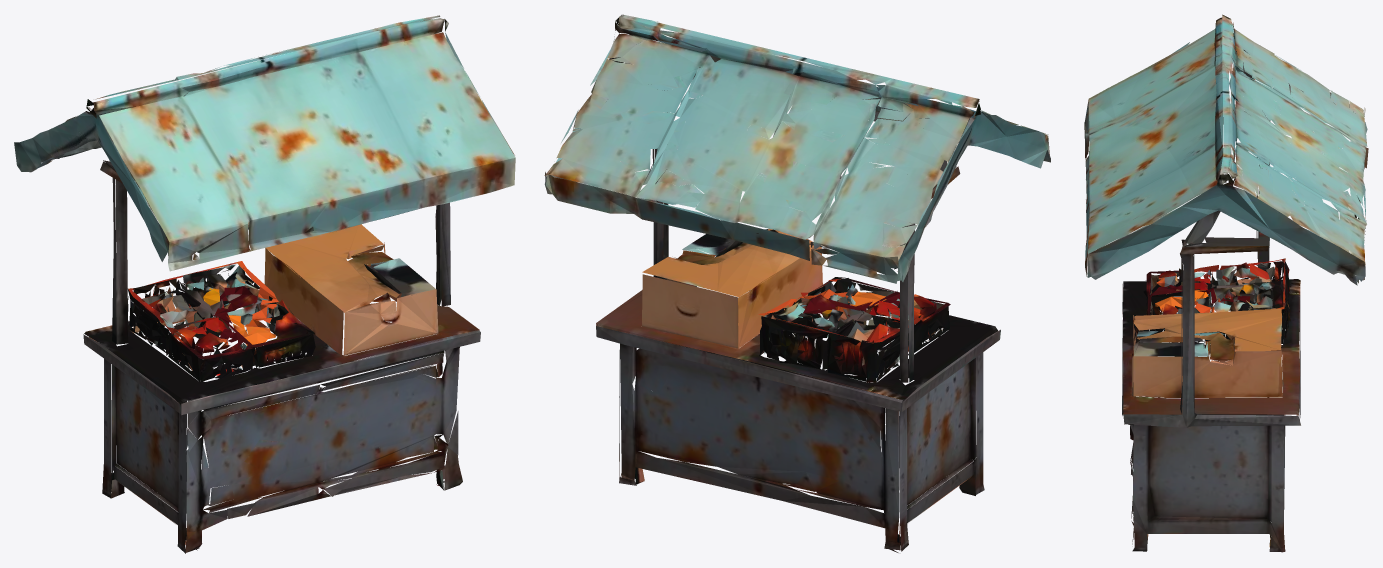
Rendered from market-stall-b.glb.
3 renders of one model, left to right at view 1: azimuth 30°, elevation 25°; view 2: azimuth 150°, elevation 25°; view 3: azimuth 270°, elevation 25°, orthographic. The views are drawn at different scales.
Visible parts, largest first — view 1: prop; view 2: prop; view 3: prop.
Part boxes in pixels (<box>): prop: <box>14,15,515,553</box>; prop: <box>544,14,1050,552</box>; prop: <box>1084,14,1368,552</box>.
Bounding box in the file's own units: 0.92 × 1.05 × 0.6853.
1 material, 1 textured.
